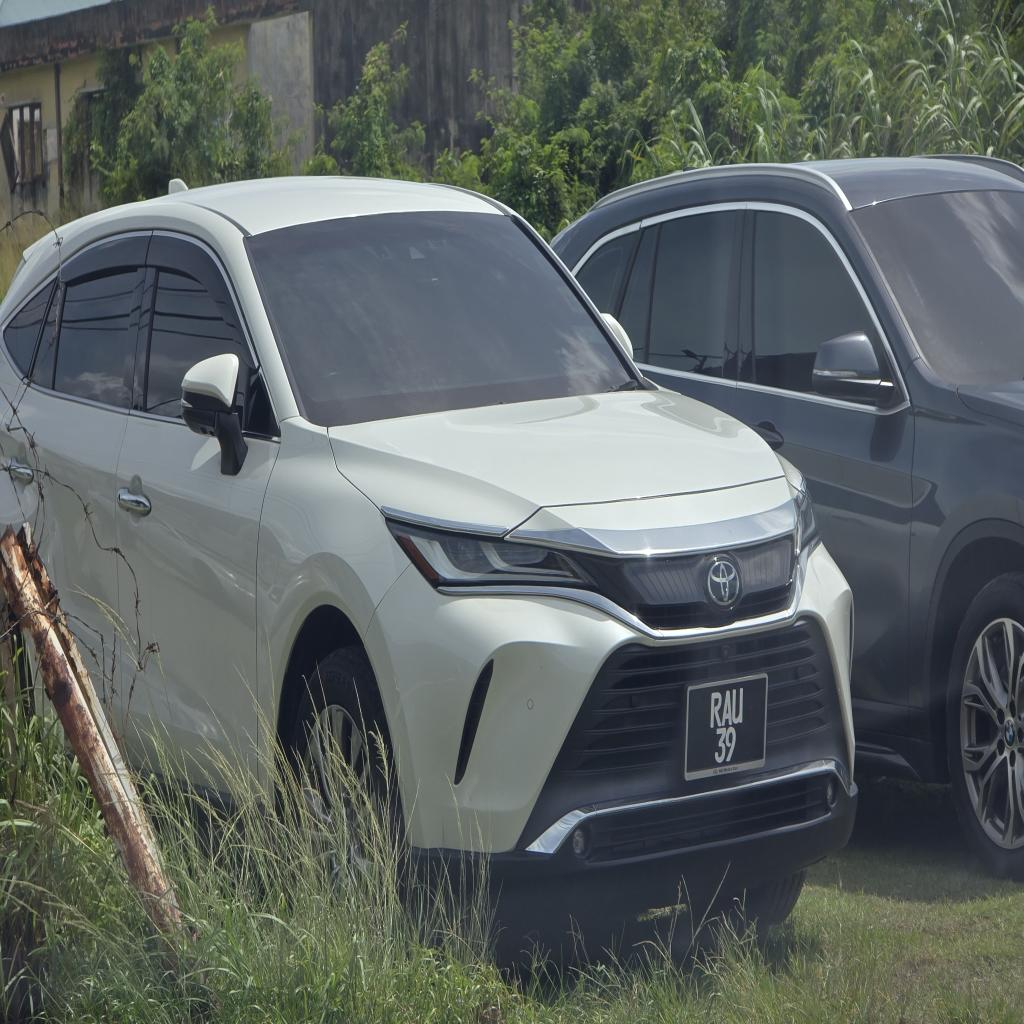car: (0, 179, 856, 949)
car plate: (685, 674, 766, 780)
